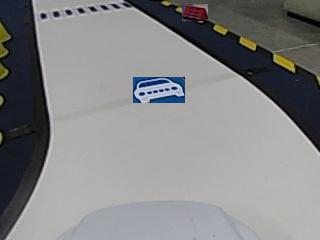crosswalk: (40, 0, 130, 20)
